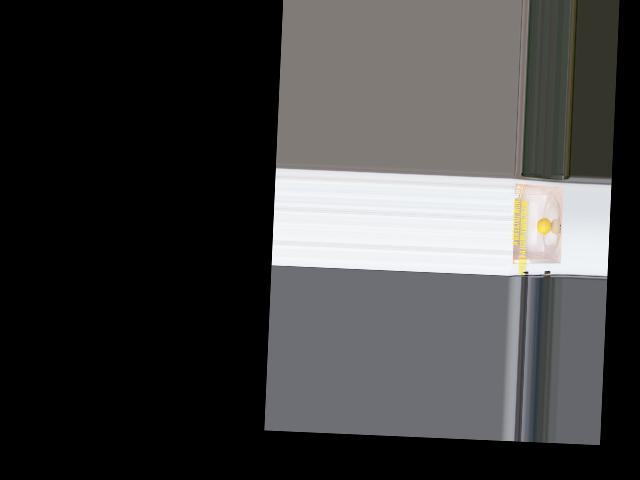lemon: (534, 216, 554, 243)
